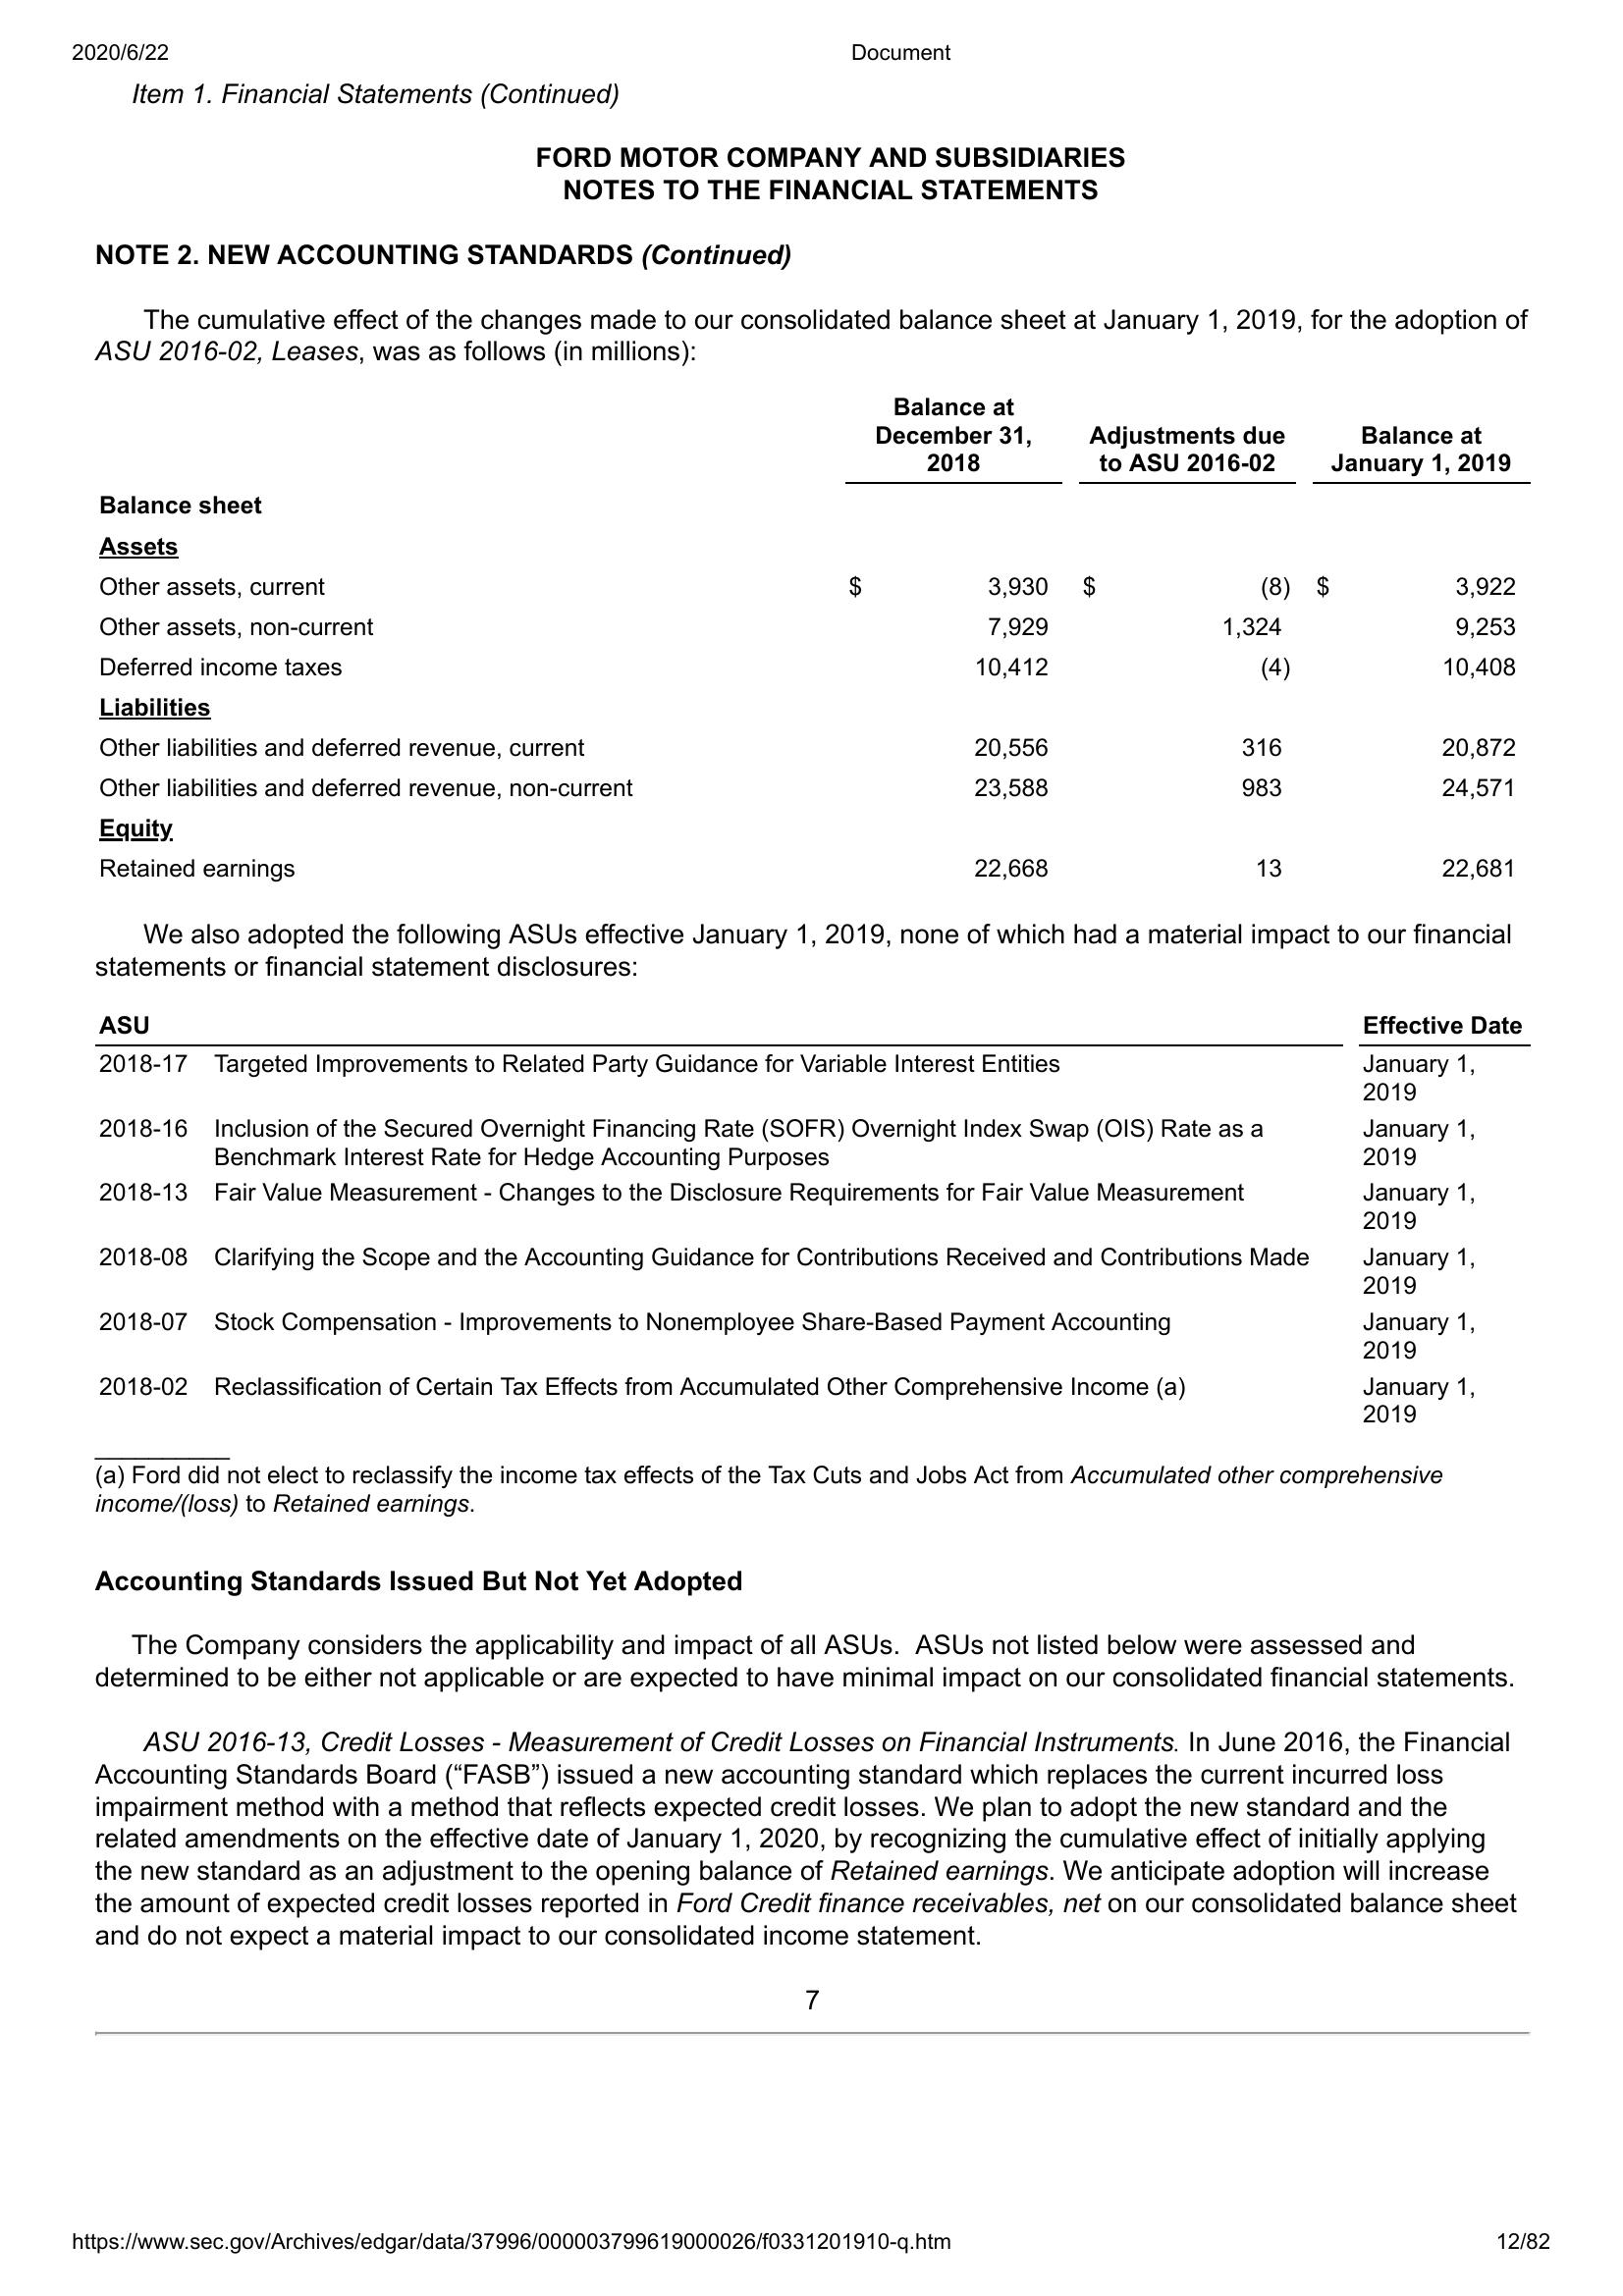table: (90, 386, 1530, 890), (88, 1006, 1542, 1431)
